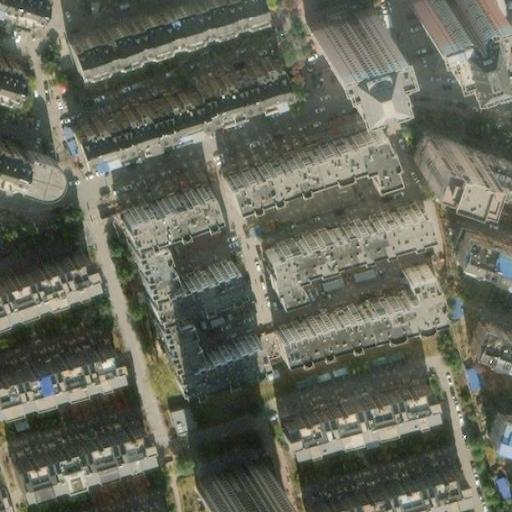building: (67, 45, 282, 148), (68, 0, 265, 78), (122, 224, 206, 397), (268, 280, 432, 351), (273, 381, 431, 450), (4, 415, 142, 488), (218, 136, 351, 206), (282, 191, 422, 256), (298, 464, 458, 512), (0, 337, 112, 395), (299, 4, 378, 85), (111, 174, 213, 236), (0, 242, 94, 302), (185, 452, 266, 510), (173, 321, 258, 373), (149, 245, 233, 296), (453, 240, 512, 292), (412, 127, 475, 175), (341, 126, 386, 187), (255, 230, 297, 290), (459, 313, 512, 360), (465, 147, 512, 192), (11, 140, 54, 181), (482, 403, 512, 447), (171, 400, 200, 434), (398, 256, 425, 286), (493, 470, 512, 499)
